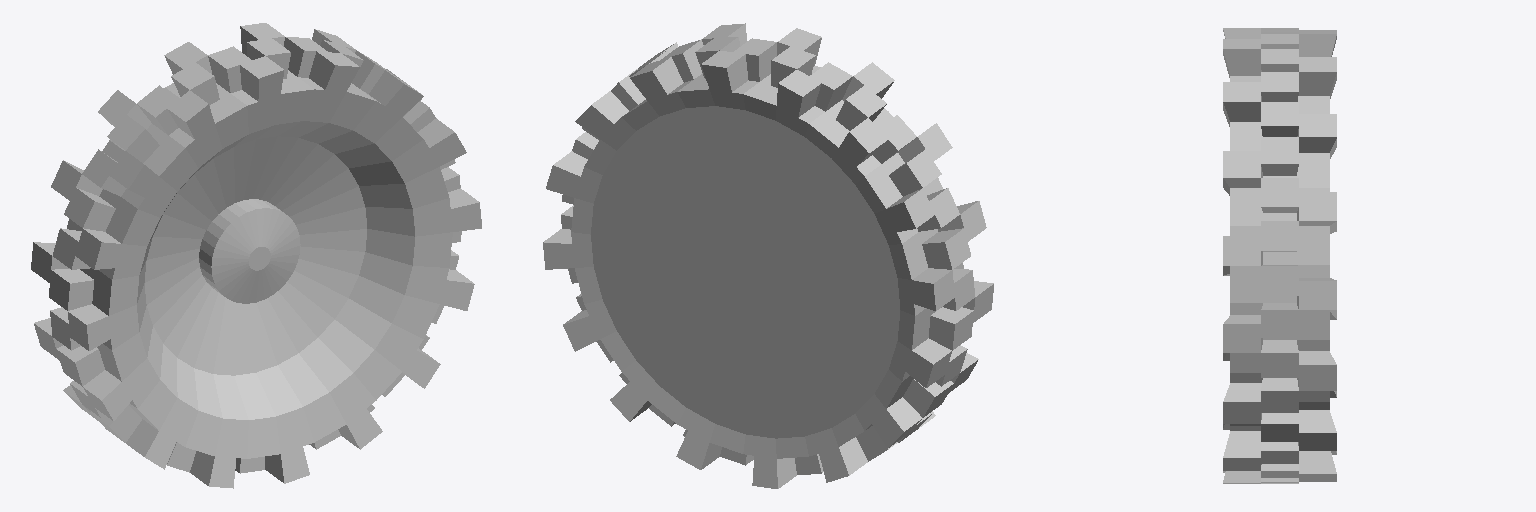
Rendered from wheel.obj.
3 views of the same model, side by side, from view 1: azimuth 30°, elevation 25°; view 2: azimuth 150°, elevation 25°; view 3: azimuth 270°, elevation 25° (orthographic).
Visible parts, largest first — view 1: Cylinder; view 2: Cylinder; view 3: Cylinder.
Boxes of the visible parts, x1=… form: Cylinder: x1=31, y1=23, x2=481, y2=488; Cylinder: x1=543, y1=23, x2=993, y2=488; Cylinder: x1=1223, y1=28, x2=1336, y2=483.
Bounding box in the file's own units: 9.2 × 9.2 × 2.3.